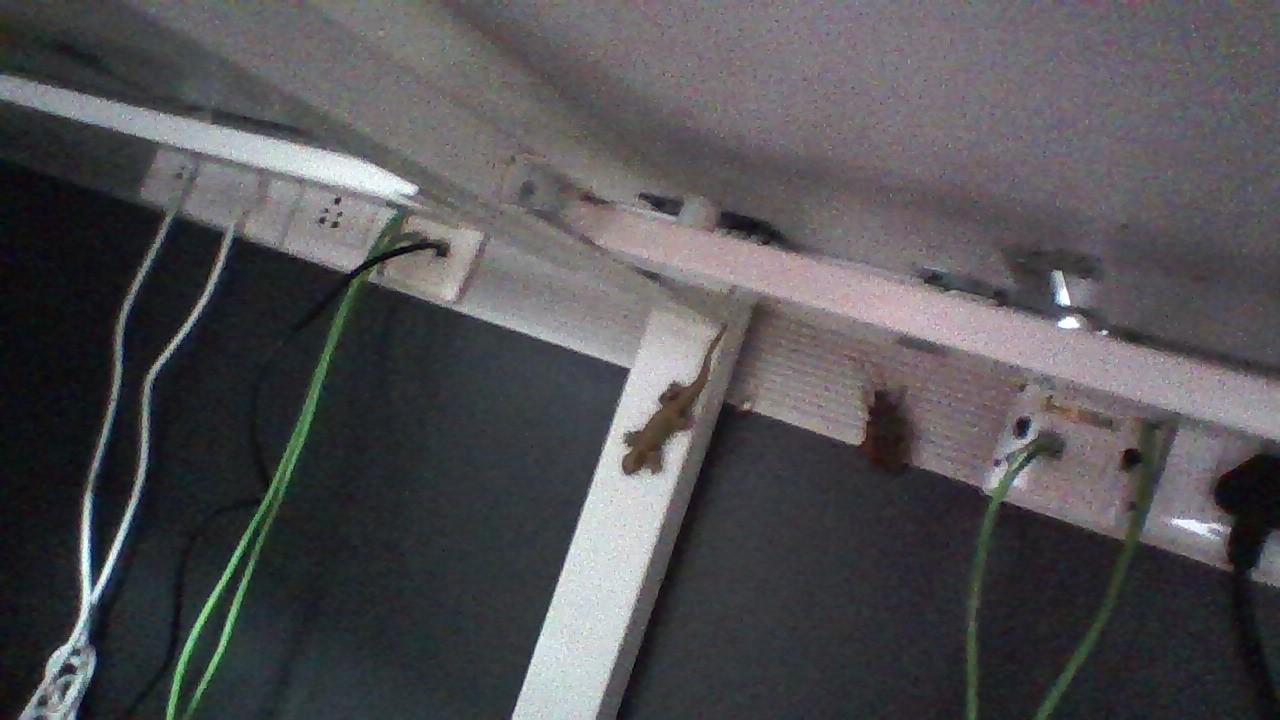cockroach: (849, 343, 925, 496)
lizard: (609, 306, 736, 498)
